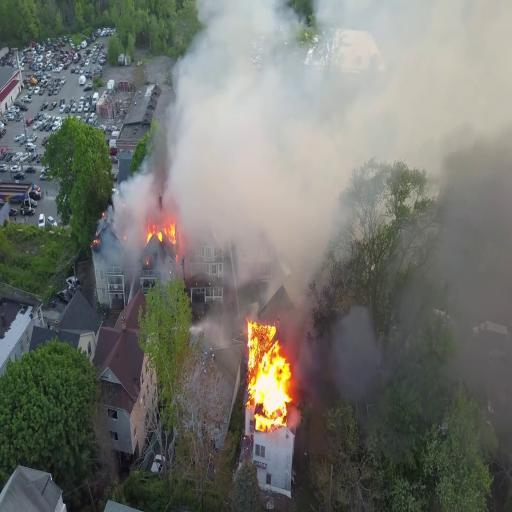fire: (248, 319, 292, 436)
smoke: (158, 121, 310, 220)
